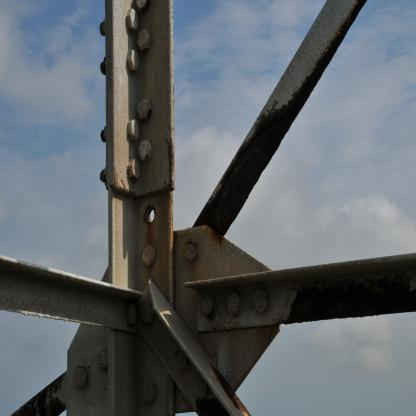Grado3: (193, 0, 370, 239), (284, 283, 416, 325)
